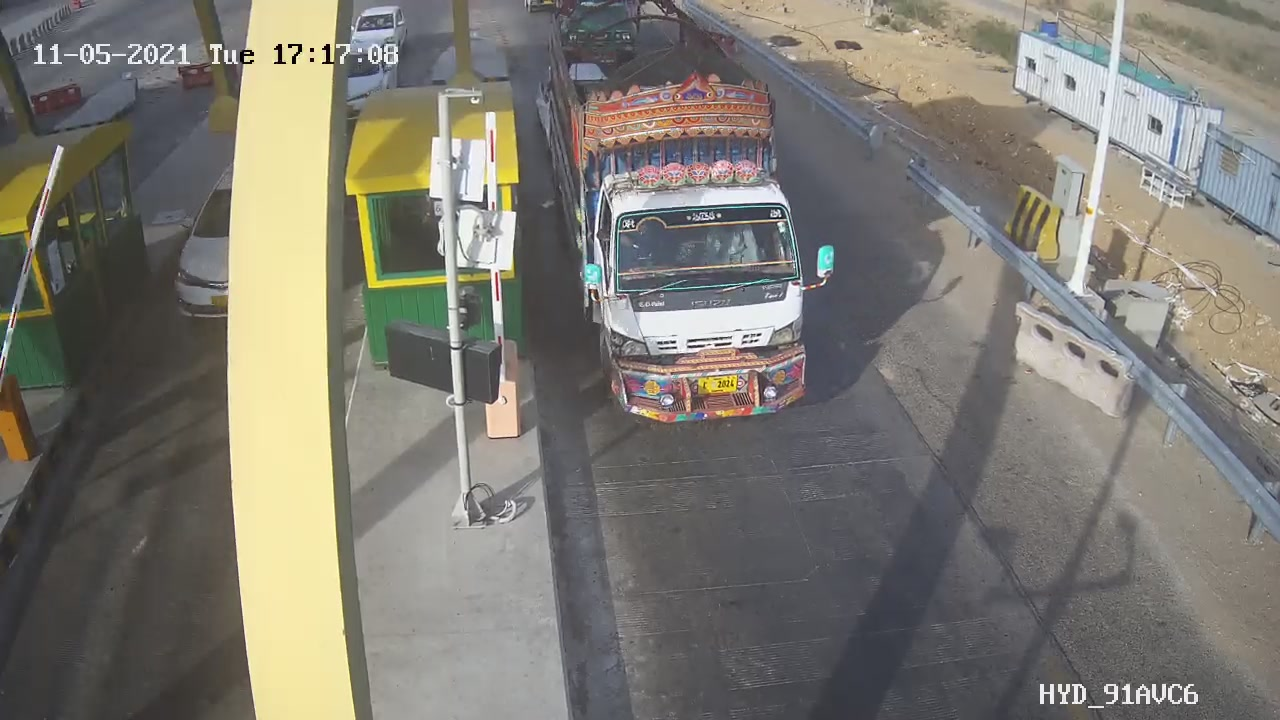F5: (527, 1, 852, 442)
